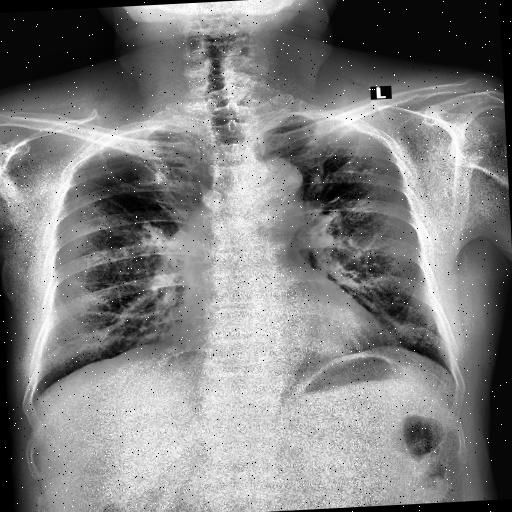0- Aortic enlargement: (246, 156, 308, 238), (254, 158, 305, 215)
13- Pulmonary fibrosis: (70, 130, 202, 222), (97, 144, 198, 226), (305, 129, 392, 179)
3- Cardiomegaly: (176, 306, 402, 358)
6- Infiltration: (70, 130, 202, 222), (130, 143, 206, 229), (391, 314, 440, 353)
